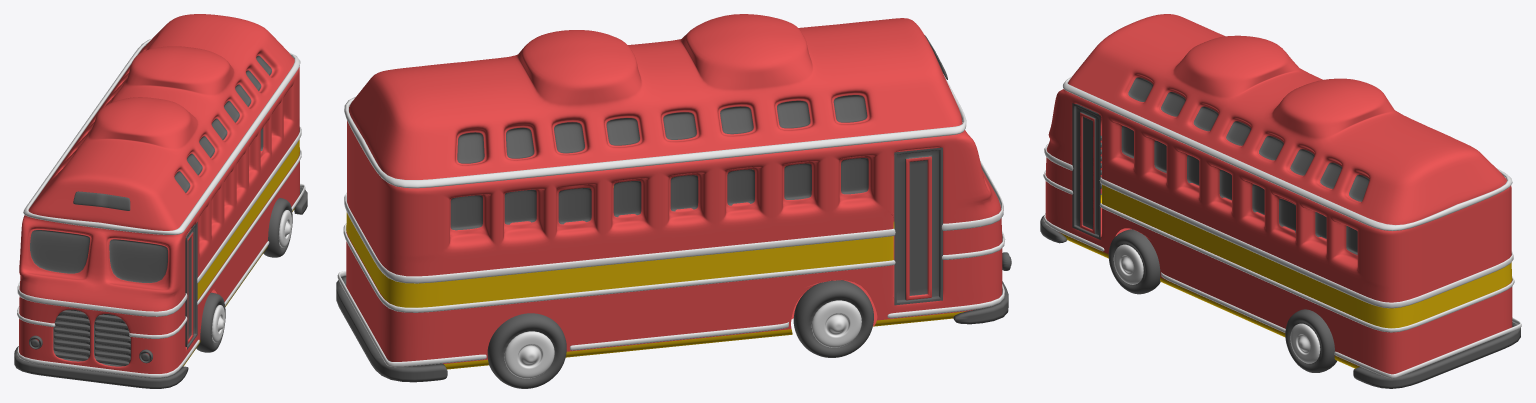
Rendered from bus-3d-animated-icon-1364490386895.glb.
The picture shows the model from 3 angles, left to right: view 1: azimuth 30°, elevation 25°; view 2: azimuth 150°, elevation 25°; view 3: azimuth 270°, elevation 25°; orthographic projection. The views are drawn at different scales.
Visible parts, largest first — view 1: body, metal, iron, tire.006, tire.002, door, lamp; view 2: body, metal, door, tire.004, tire, iron; view 3: body, metal, door, tire.006, tire.002, iron.
Boxes of the visible parts, <box> form: body: <box>14,14,307,388</box>; metal: <box>17,39,305,377</box>; iron: <box>14,193,307,388</box>; tire.006: <box>196,292,225,352</box>; tire.002: <box>263,198,292,257</box>; door: <box>185,222,197,349</box>; lamp: <box>29,335,152,362</box>; body: <box>336,14,1011,381</box>; metal: <box>337,78,1005,367</box>; door: <box>896,150,940,302</box>; tire.004: <box>793,280,873,357</box>; tire: <box>487,313,566,388</box>; iron: <box>336,288,1008,382</box>; body: <box>1040,14,1519,388</box>; metal: <box>1043,76,1521,378</box>; door: <box>1072,103,1100,239</box>; tire.006: <box>1108,229,1160,294</box>; tire.002: <box>1285,309,1336,372</box>; iron: <box>1042,221,1520,388</box>.
Bounding box in the file's own units: 2.58 × 1.34 × 2.51.
